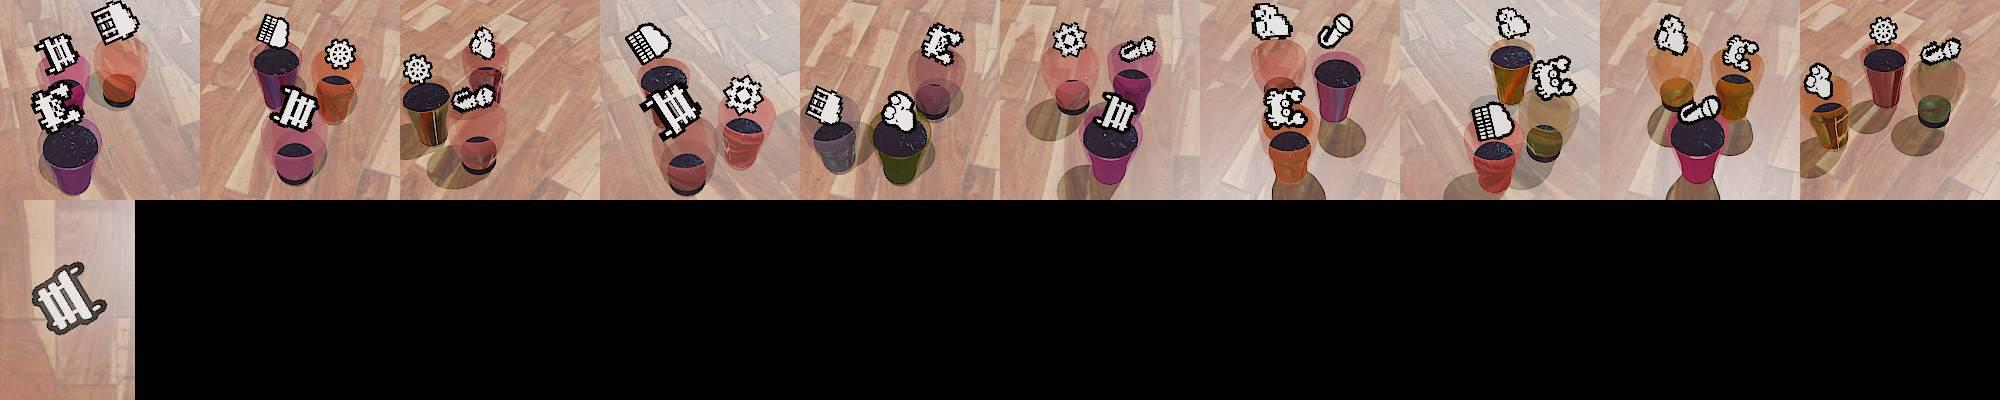icon: (29, 260, 108, 336), (640, 83, 702, 140), (29, 82, 82, 134), (269, 84, 320, 131), (624, 20, 673, 67), (90, 0, 139, 46), (1469, 97, 1515, 142), (33, 32, 81, 75), (1262, 85, 1307, 130), (919, 21, 964, 65), (1096, 87, 1139, 133), (1531, 55, 1574, 100), (723, 73, 766, 116), (804, 84, 845, 126), (1251, 2, 1294, 41), (1653, 13, 1689, 57), (1051, 20, 1090, 60), (880, 89, 916, 132), (1720, 34, 1760, 71), (451, 83, 498, 114), (256, 13, 293, 52), (1677, 94, 1721, 125), (1495, 5, 1531, 40), (1317, 13, 1353, 48), (322, 36, 357, 71), (1919, 38, 1960, 66), (1802, 62, 1833, 99), (402, 52, 433, 87), (1118, 35, 1157, 62), (468, 25, 496, 60), (1868, 16, 1899, 46)
